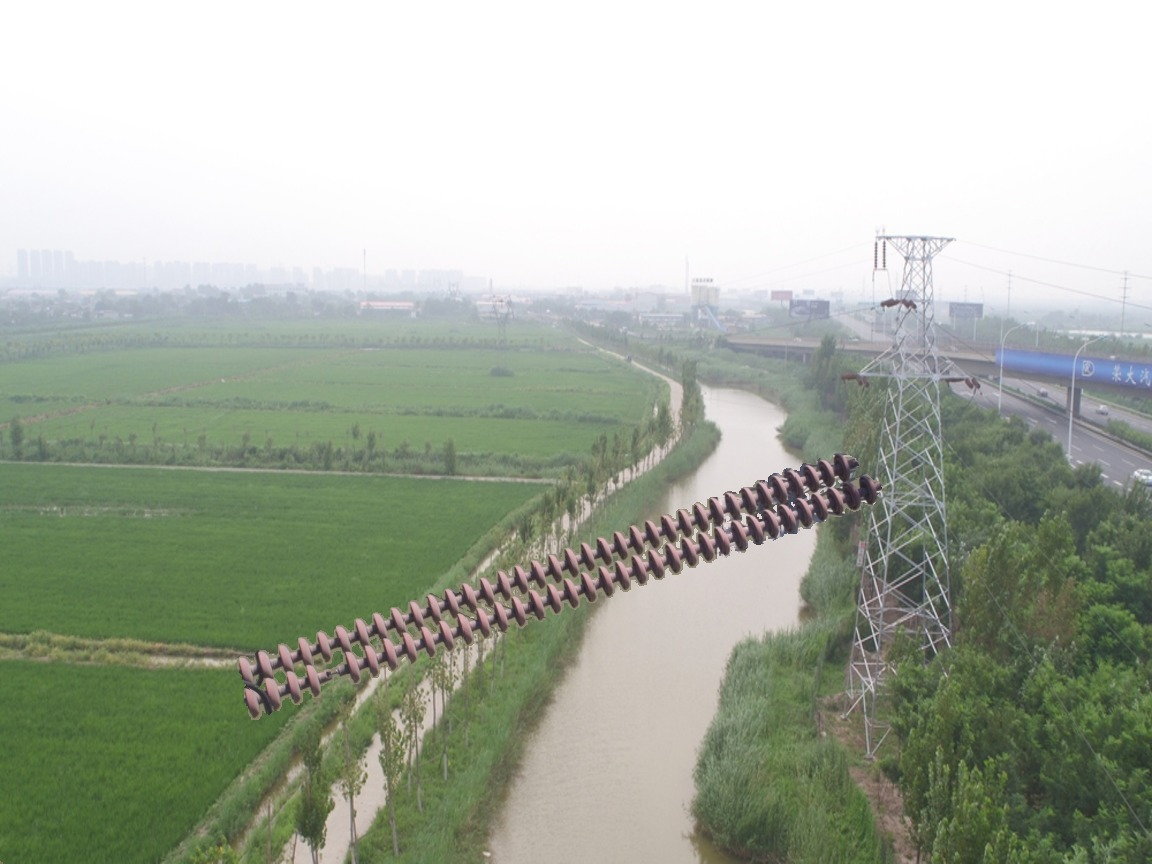defect: (302, 649, 360, 698)
